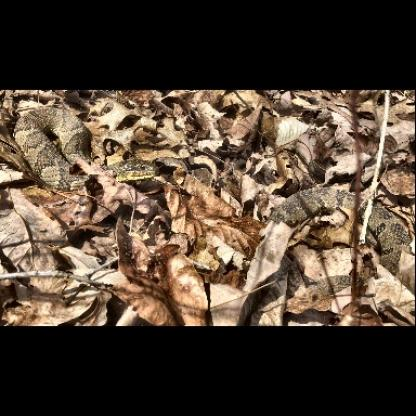Snake: (6, 93, 164, 199)
